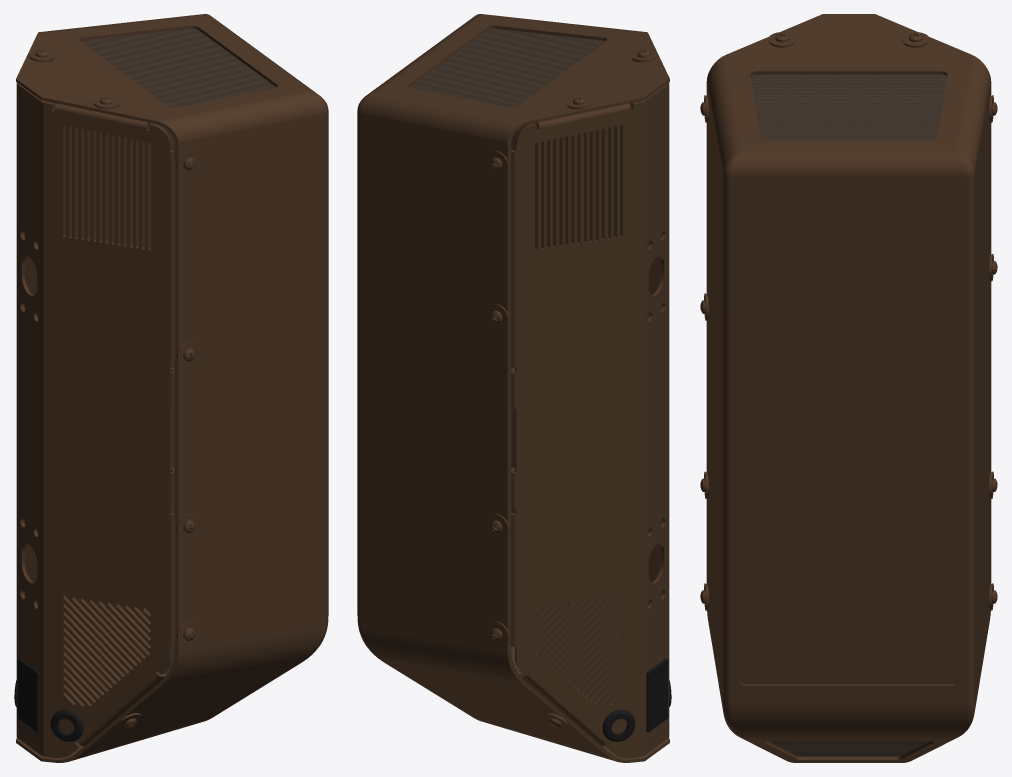
The picture shows the model from 3 angles, left to right: view 1: azimuth 30°, elevation 25°; view 2: azimuth 150°, elevation 25°; view 3: azimuth 270°, elevation 25°; orthographic projection. The views are drawn at different scales.
Visible parts, largest first — view 1: <131593>-<Cut-Extrude8>007, Fillet036, Boss-Extrude034, Fillet038, Revolve015; view 2: <131593>-<Cut-Extrude8>007, Fillet036, Boss-Extrude034, Fillet038, Revolve014; view 3: Boss-Extrude033, <131593>-<Cut-Extrude8>007, Boss-Extrude034, Boss-Extrude032.
Part boxes in pixels (bbox=[...]): <131593>-<Cut-Extrude8>007: bbox=[16, 14, 328, 762]; Fillet036: bbox=[16, 82, 174, 757]; Boss-Extrude034: bbox=[80, 28, 276, 107]; Fillet038: bbox=[17, 658, 39, 732]; Revolve015: bbox=[50, 709, 83, 741]; <131593>-<Cut-Extrude8>007: bbox=[357, 14, 669, 762]; Fillet036: bbox=[511, 82, 669, 757]; Boss-Extrude034: bbox=[409, 28, 605, 107]; Fillet038: bbox=[646, 658, 668, 732]; Revolve014: bbox=[602, 709, 635, 741]; Boss-Extrude033: bbox=[739, 201, 958, 684]; <131593>-<Cut-Extrude8>007: bbox=[706, 14, 991, 762]; Boss-Extrude034: bbox=[750, 74, 947, 139]; Boss-Extrude032: bbox=[768, 741, 929, 756].
Bounding box in the file's own units: 0.2705 × 0.7071 × 0.2755.
4 materials, 1 textured.
